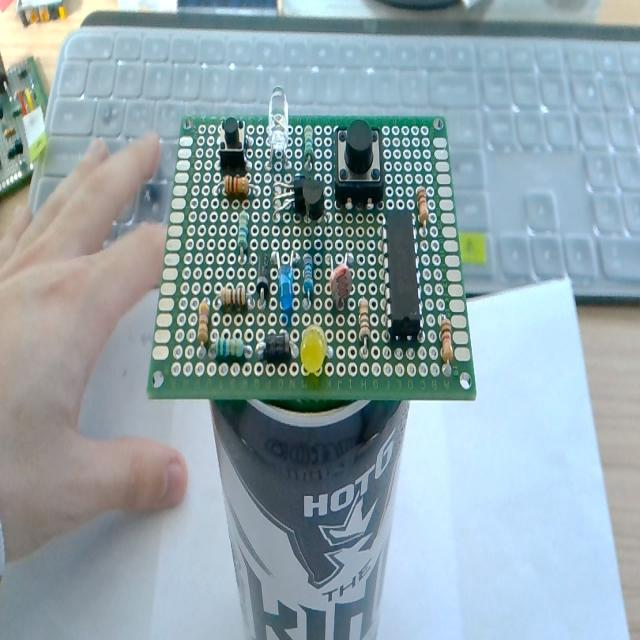IC: (386, 211, 421, 341)
cds: (329, 252, 354, 310)
diode: (257, 332, 292, 365), (256, 251, 270, 306)
led: (336, 121, 383, 208), (296, 324, 336, 375), (267, 87, 289, 158), (278, 252, 294, 314)
resistor: (215, 335, 245, 360), (440, 318, 454, 363), (302, 252, 314, 300), (224, 174, 249, 197), (222, 283, 244, 307), (358, 299, 370, 342), (303, 124, 314, 170), (416, 186, 428, 225), (198, 301, 209, 343), (238, 209, 249, 248)
switch: (219, 117, 248, 177)
transistor: (273, 177, 312, 217), (303, 177, 324, 222)
